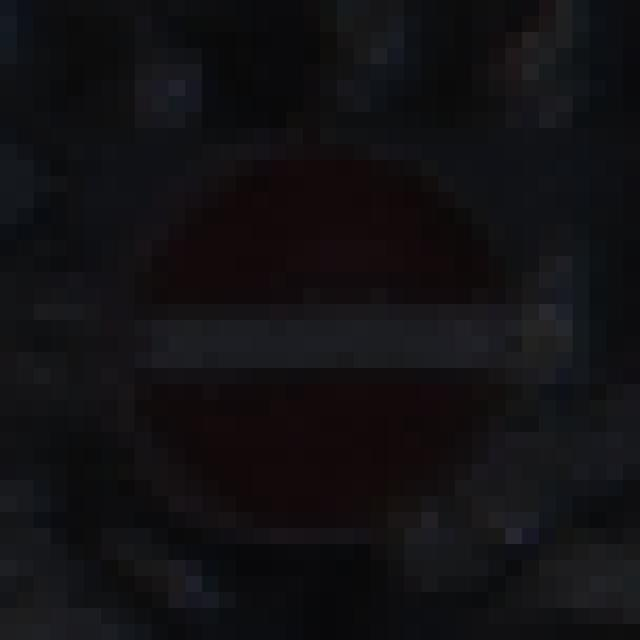No Entry: (85, 81, 557, 561)
